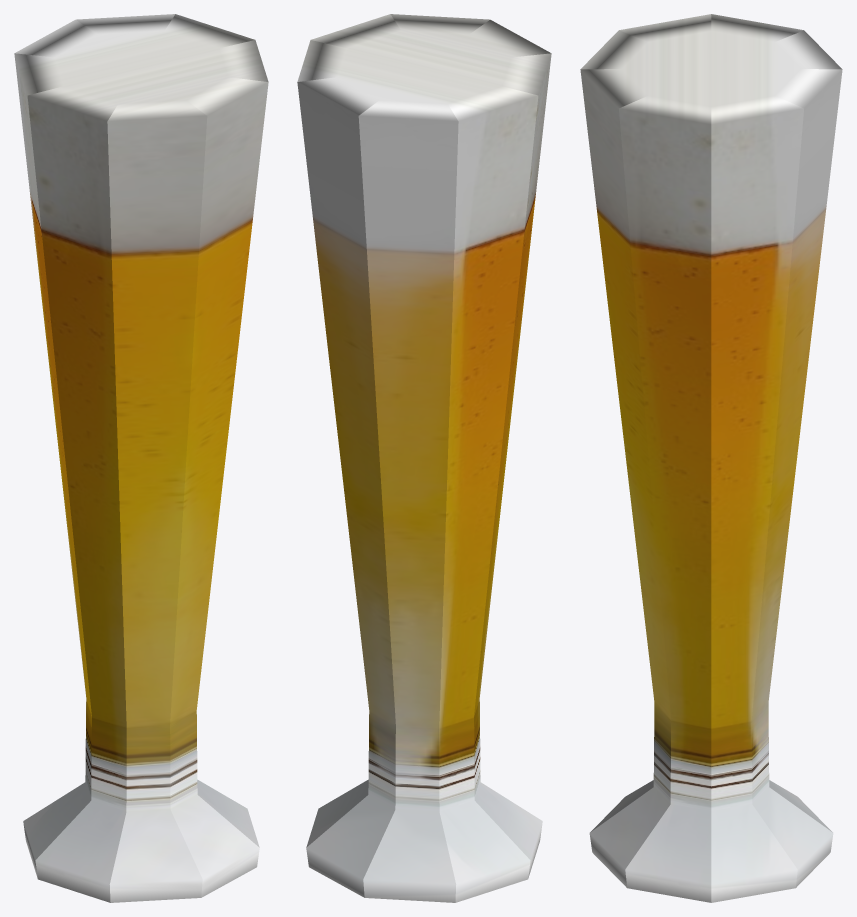
File: beer3m.fbx
3 renders of one model, left to right at view 1: azimuth 30°, elevation 25°; view 2: azimuth 150°, elevation 25°; view 3: azimuth 270°, elevation 25°, orthographic.
Parts seen in each view (by area): view 1: pCylinder4; view 2: pCylinder4; view 3: pCylinder4.
Boxes of the visible parts, x1,y1,x2,y2 form: pCylinder4: (14,14,268,902); pCylinder4: (297,14,551,902); pCylinder4: (580,14,842,902).
Bounding box in the file's own units: 1.97 × 6.48 × 1.97.
Materials: 1 (1 with a texture image).
